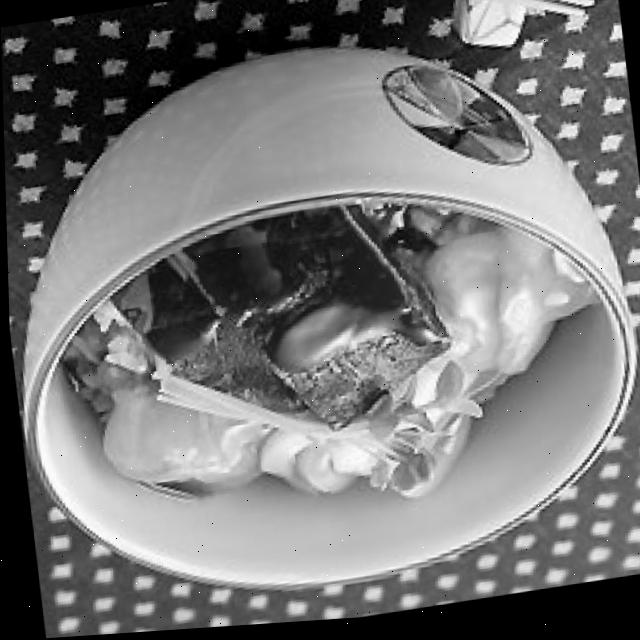刺身生食: (1, 18, 640, 632)
